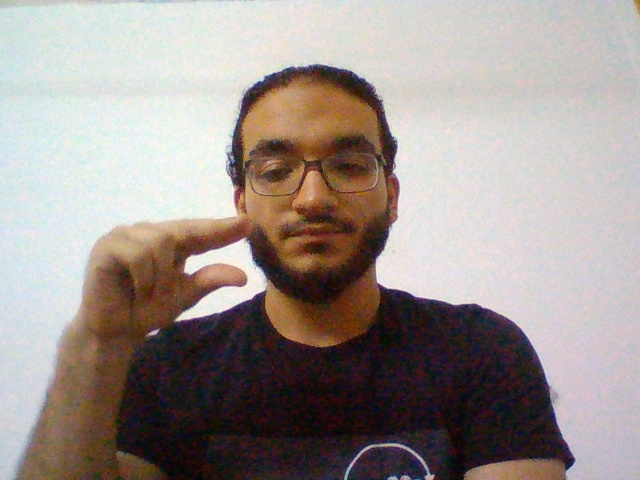No: (81, 212, 261, 337)
